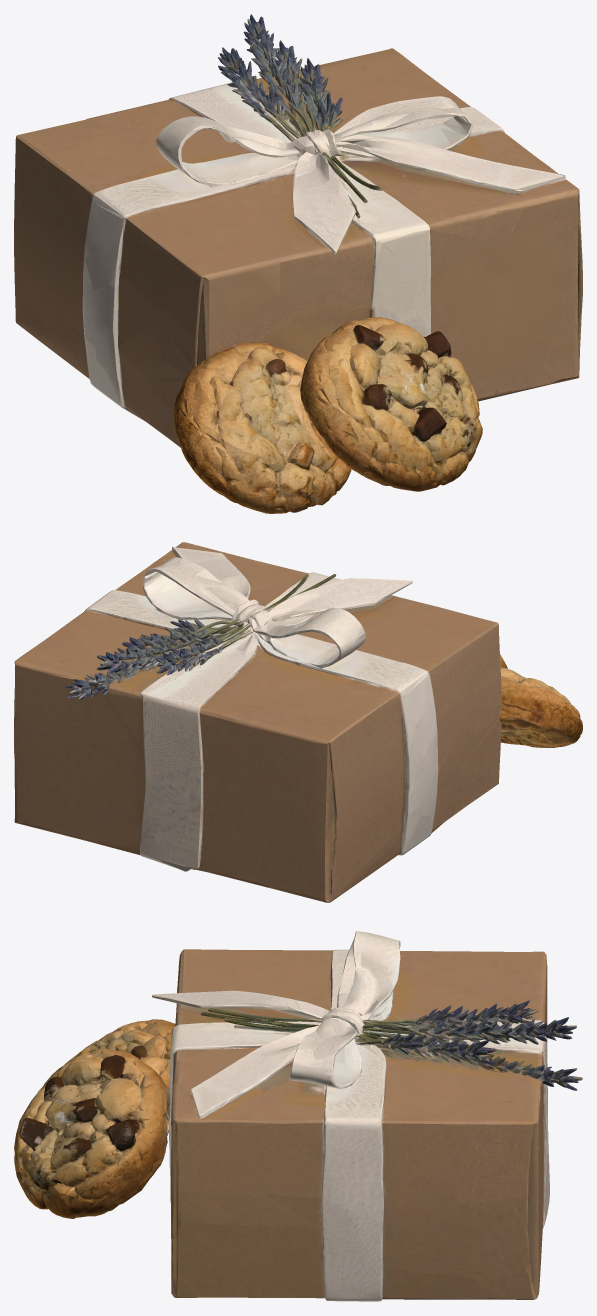
3 views of the same model, one above another, from view 1: azimuth 30°, elevation 25°; view 2: azimuth 150°, elevation 25°; view 3: azimuth 270°, elevation 25° (orthographic). The views are drawn at different scales.
Size of the model in its own units: 1.6 by 0.8845 by 1.9.
Materials: 1 (1 with a texture image).
